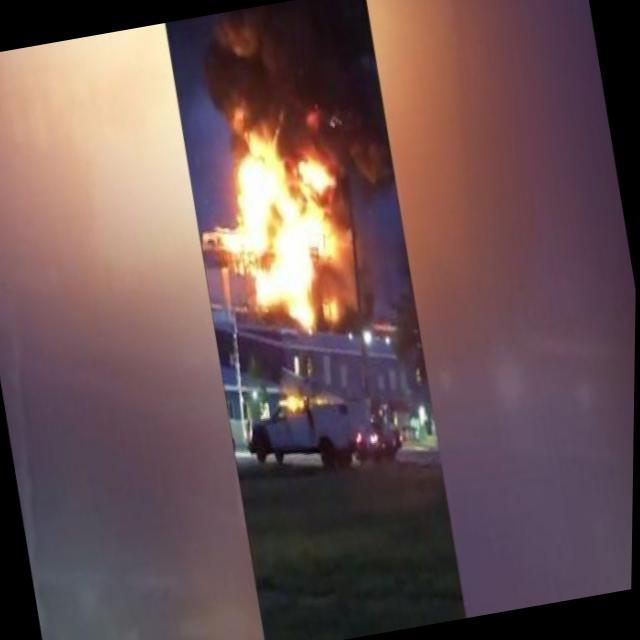fire: (197, 101, 367, 356)
